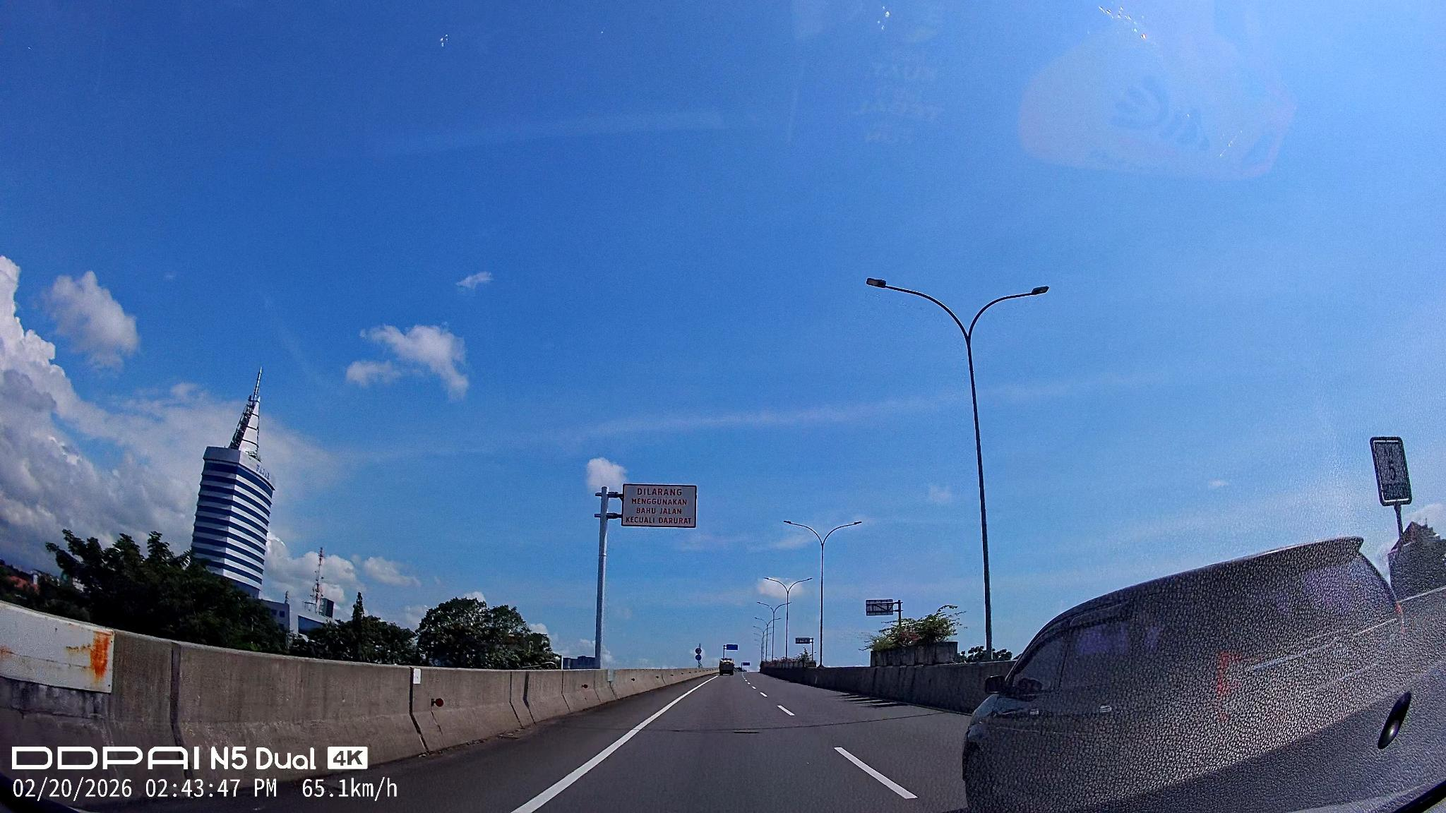rambu_teks: (621, 483, 698, 529)
